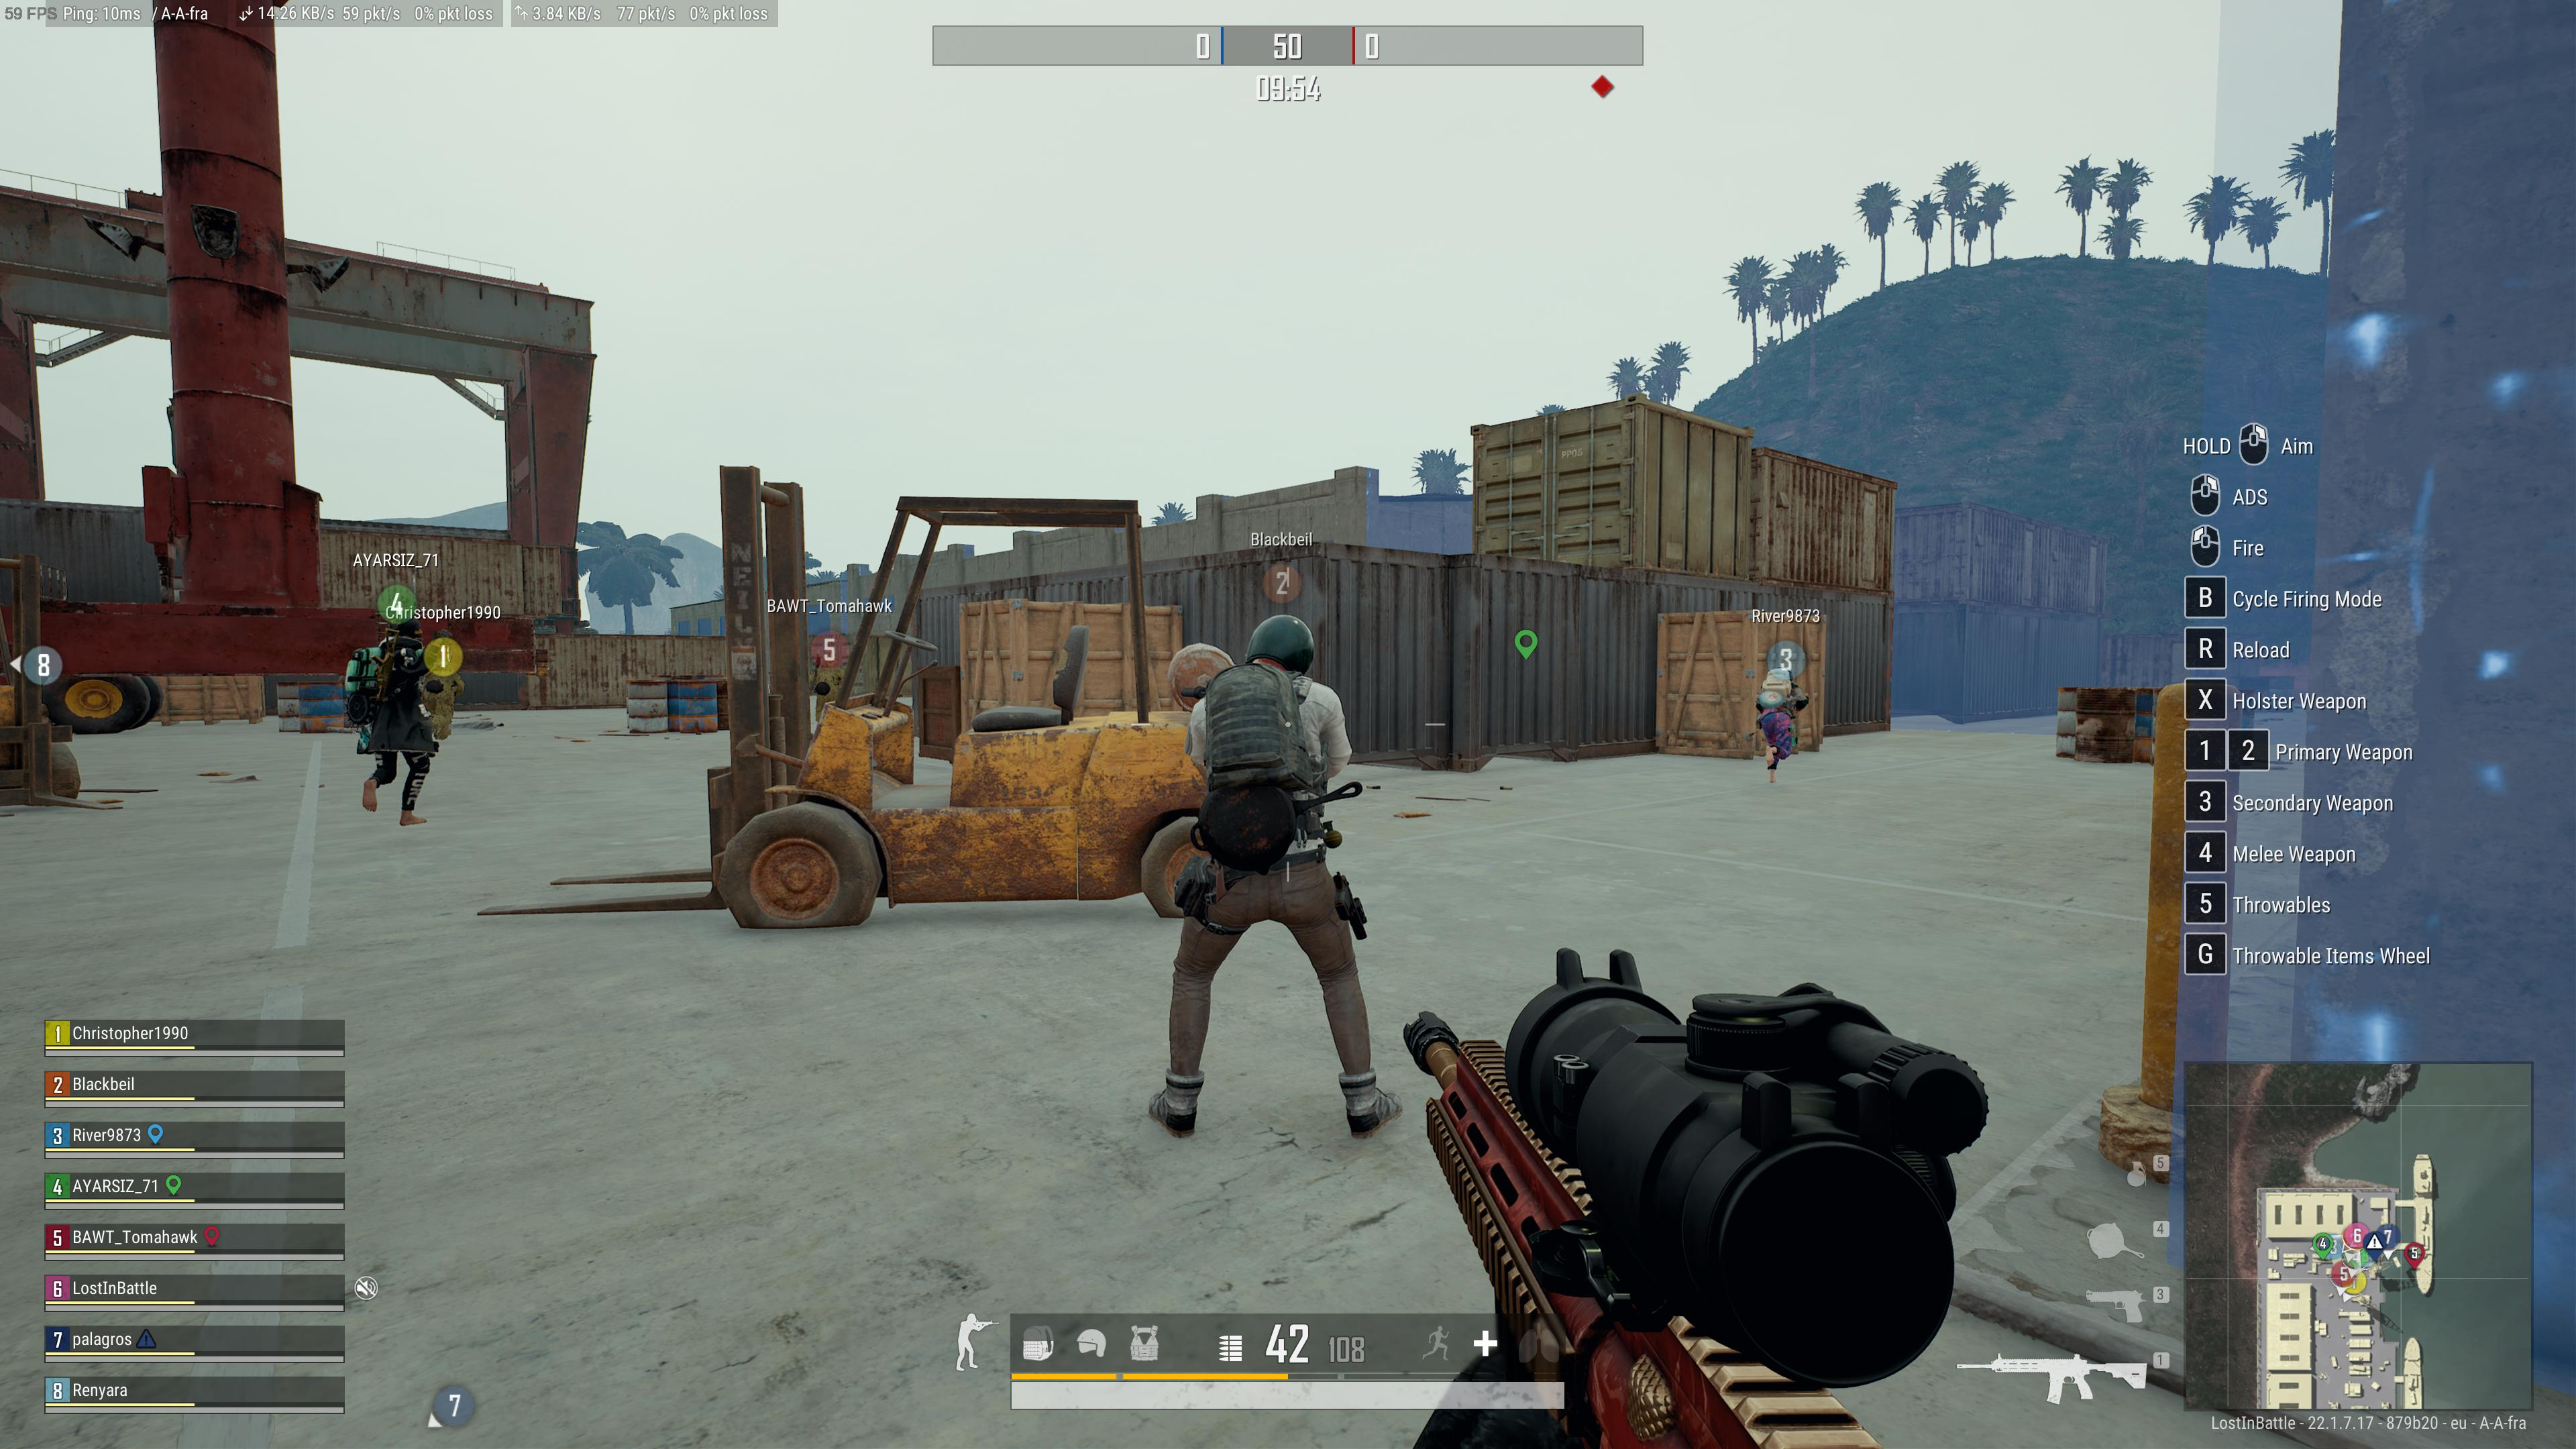friendly: (1143, 577, 1401, 1141), (340, 591, 453, 830), (1748, 648, 1810, 786), (809, 644, 842, 699)
